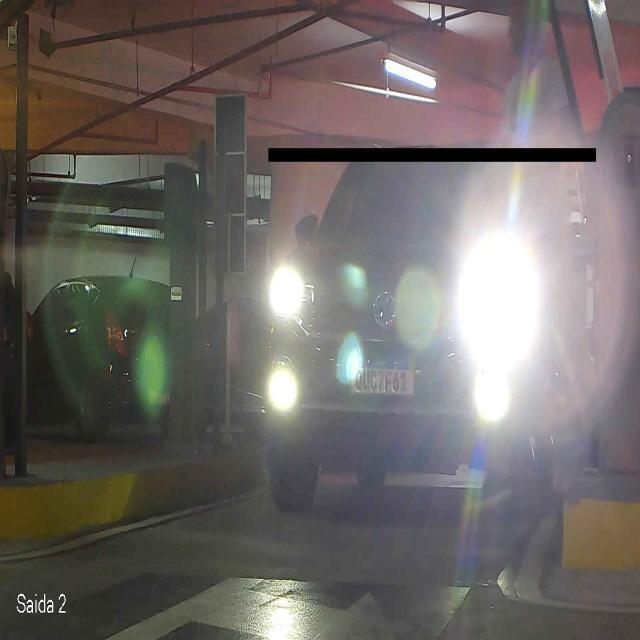mercosul_plate: (352, 354, 414, 396)
